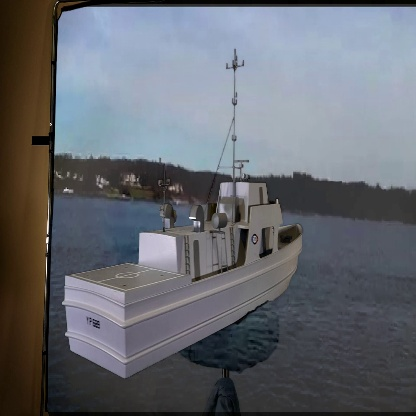YP689: (59, 49, 314, 378)
